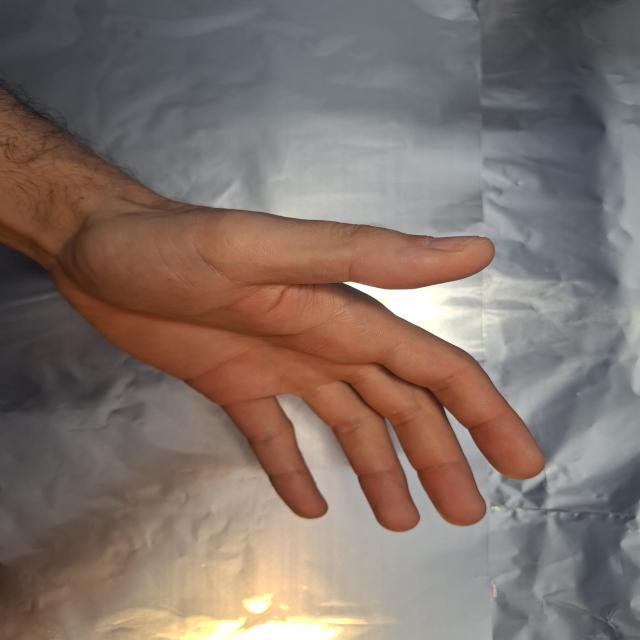glove_off: (22, 161, 550, 534)
